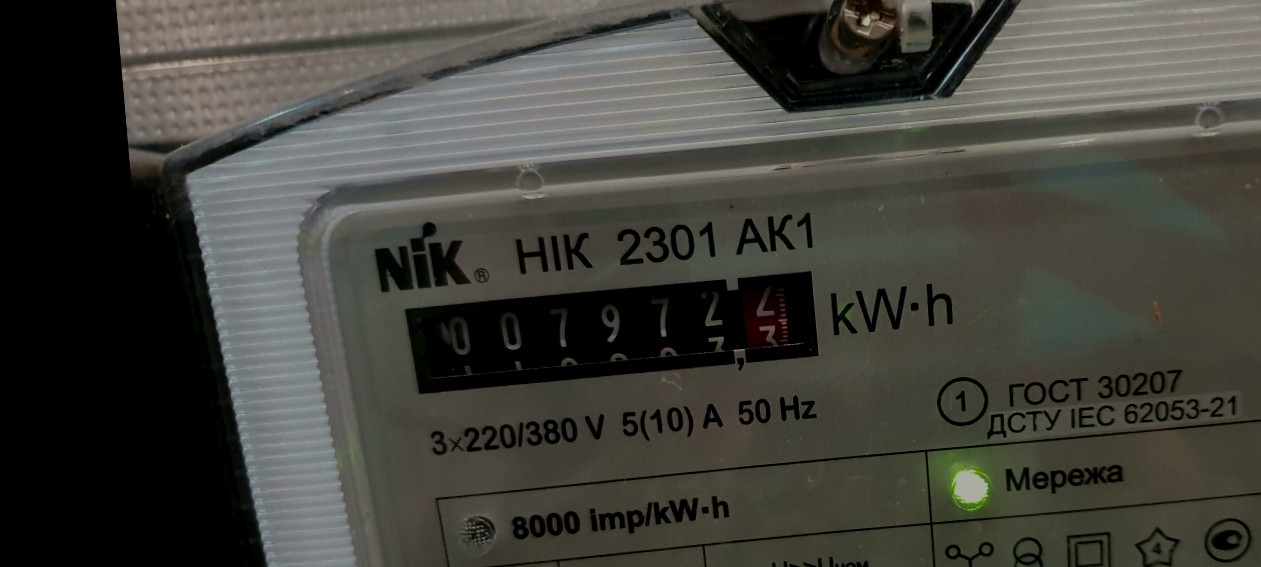0: (445, 313, 475, 356), (497, 308, 524, 351)
2: (699, 288, 725, 328), (751, 284, 776, 319)
3: (756, 321, 780, 348)
7: (647, 293, 676, 341), (546, 303, 574, 350)
9: (597, 299, 623, 344)
screen: (387, 257, 838, 409)
